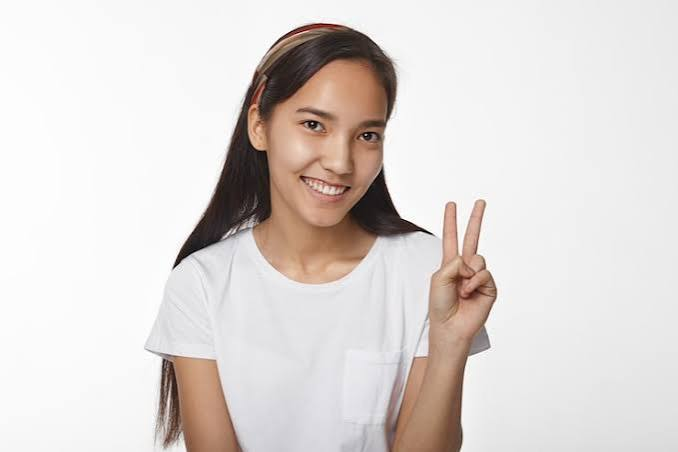peace_sign: (426, 192, 503, 341)
